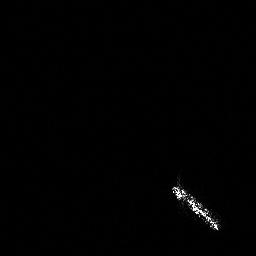ship: (167, 184, 223, 233)
